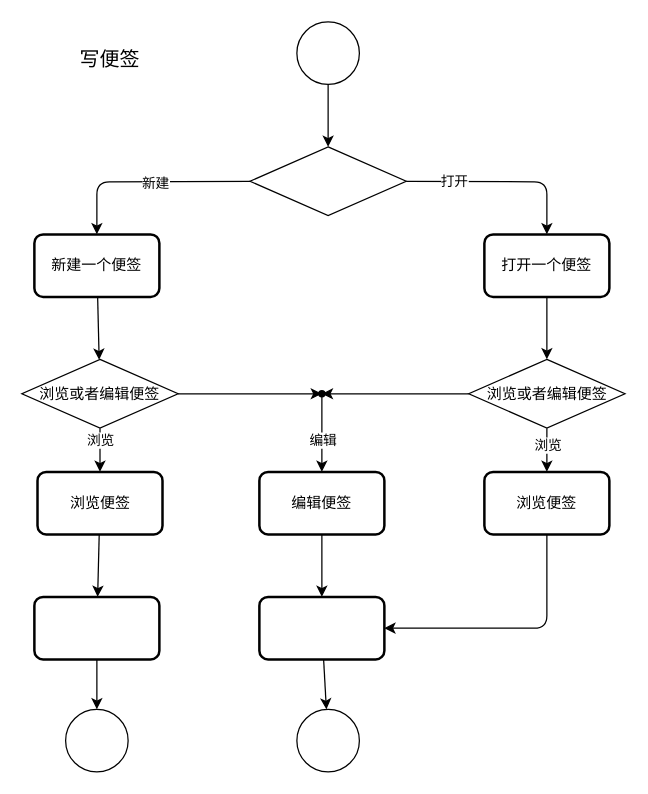
Some shapes in this 648 by 794 pixel diagram are drawn without their labels. Each missing label, with the centre of its shape:
"不保存并退出" goes at (96,627).
"保存并退出" goes at (321,627).
"新建或打开便签" goes at (327,181).
